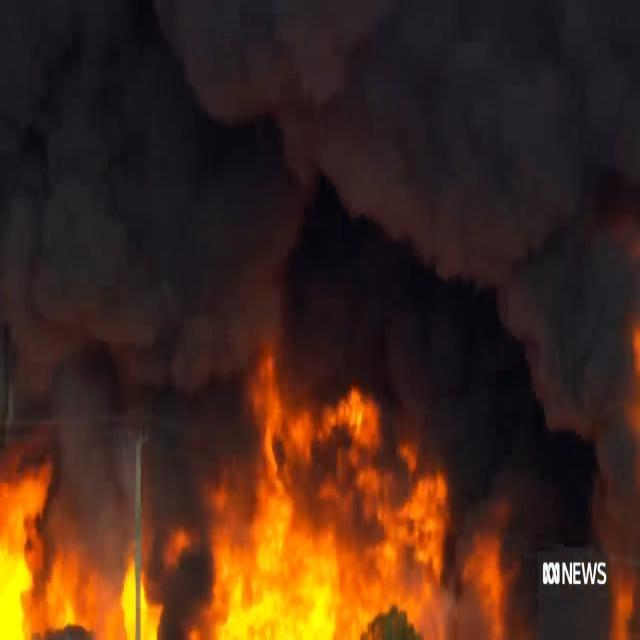fire: (220, 348, 523, 640), (0, 482, 40, 636)
